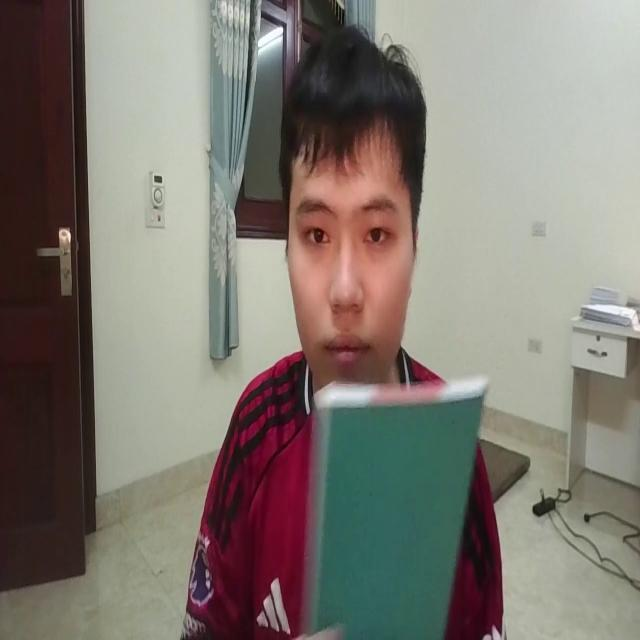book: (306, 366, 488, 640)
student: (183, 22, 507, 640)
